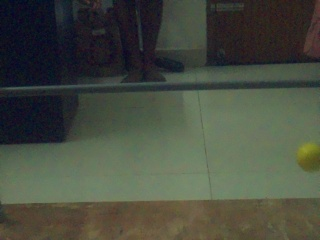ball: (297, 142, 319, 171)
